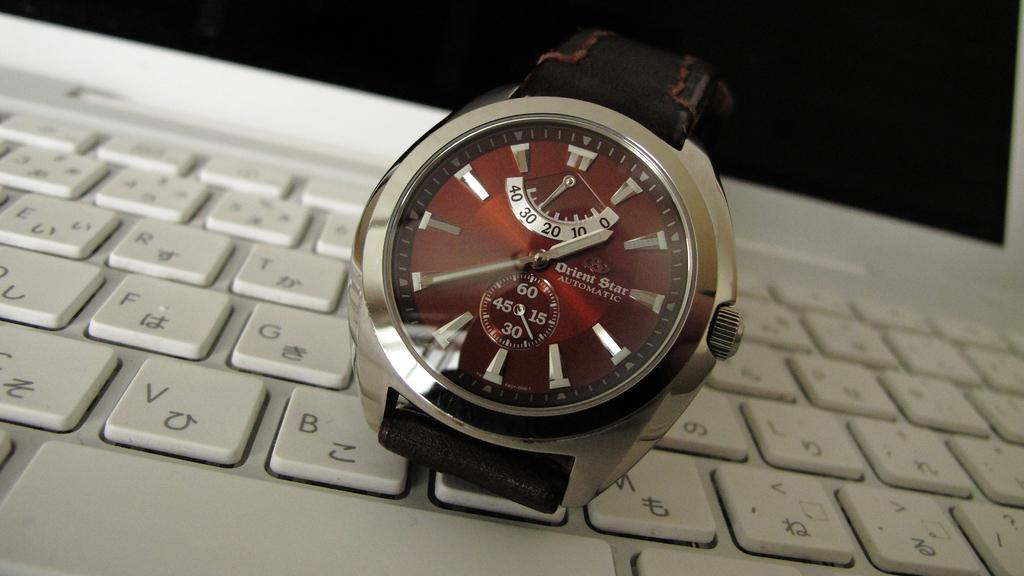Computer-keyboard: (0, 101, 1023, 575)
